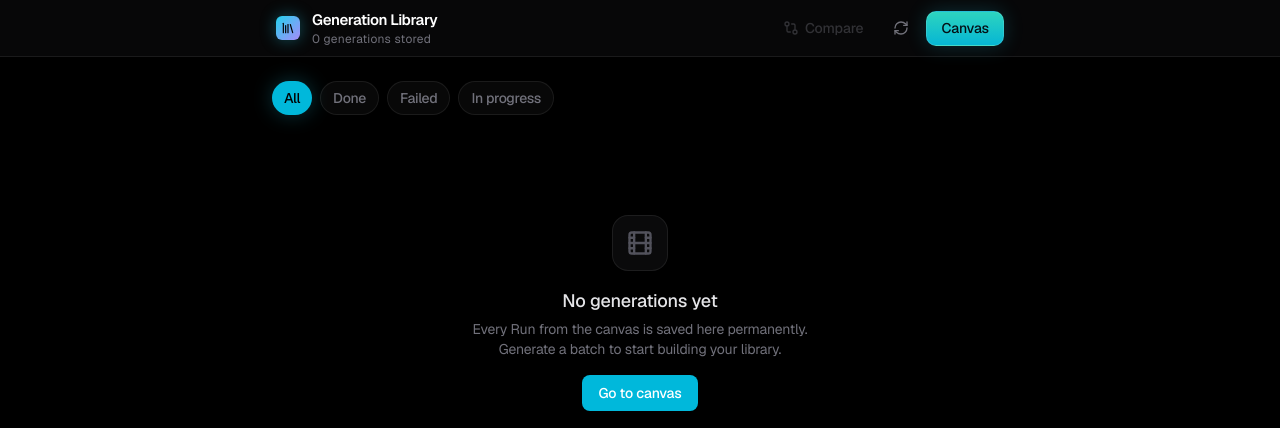
Scenario: LibraryPage › shows filter-specific empty copy when filtered list is empty
Expected: the element with test id "library-empty" is shown, [473,215,807,411]
Click the tab "Failed" at (419, 98), box [387,81,450,115]
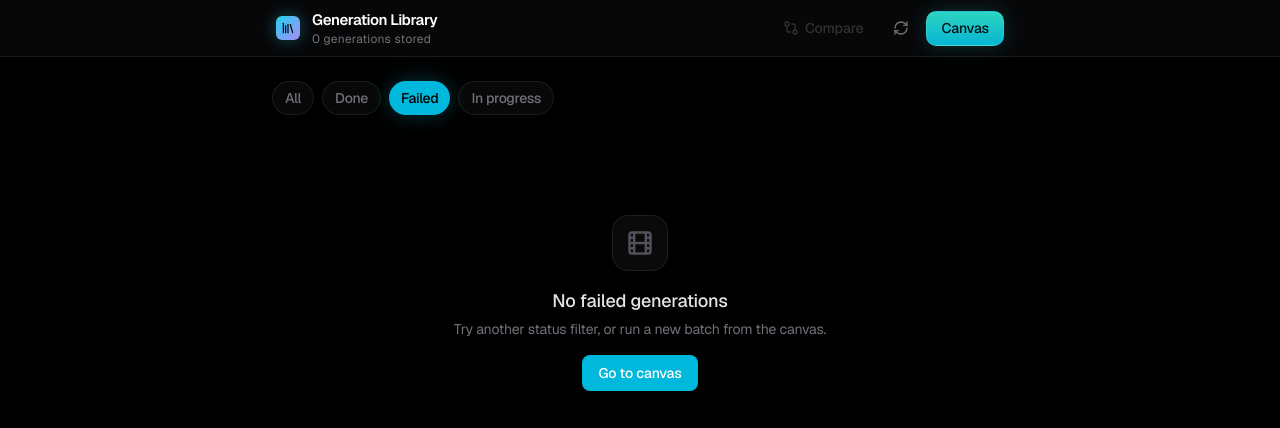
Expected: the text "No failed generations" is shown, [552,289,728,312]
